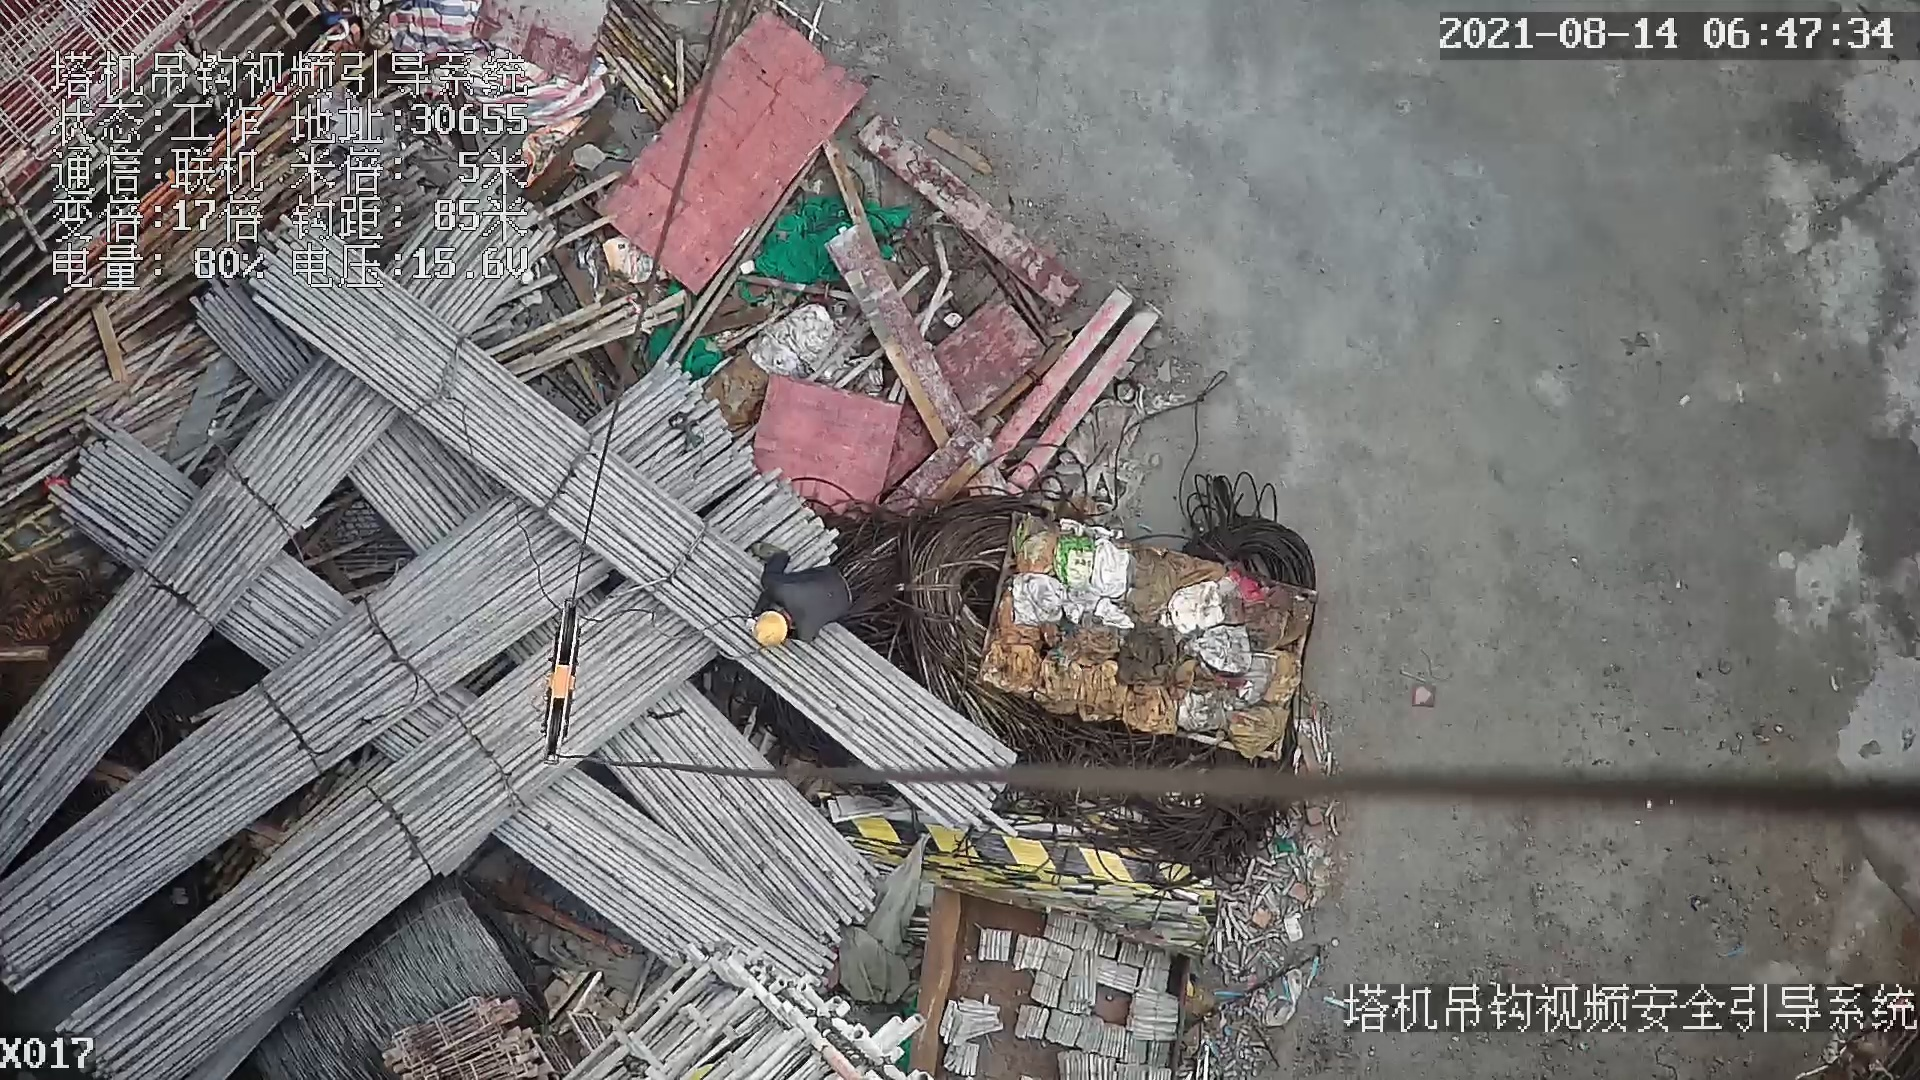board: (592, 8, 869, 295)
helmet: (749, 612, 786, 652)
hook: (531, 592, 594, 771)
person: (741, 537, 856, 653)
